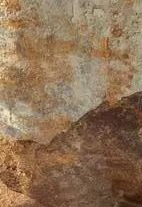Corrosion: (1, 90, 142, 207)
